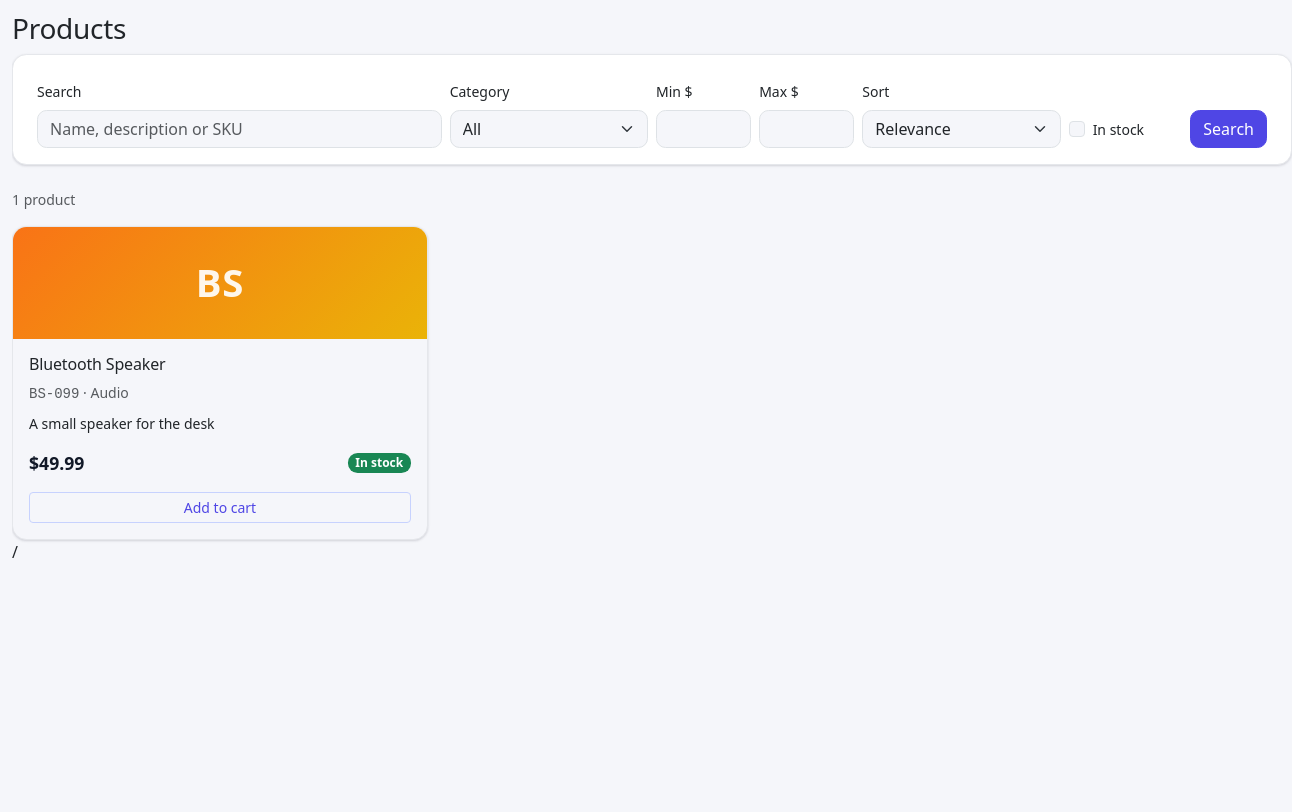
ShopPage › applies a category, a sort or the stock filter as soon as it is chosen, with the text typed so far
Step 1. Type "  speaker " into the field labelled "Search" → (239, 129), box [37,110,442,148]
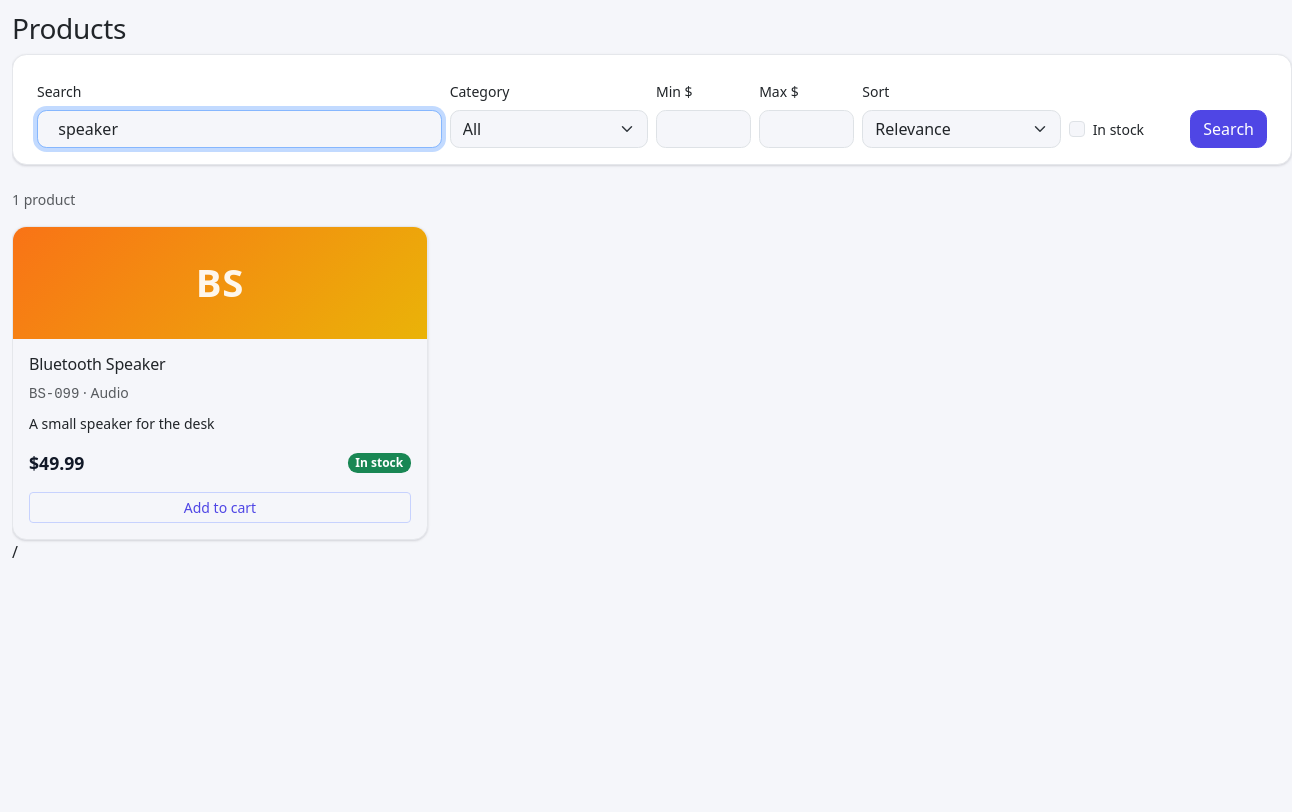
Step 2. Select "Audio" in the dropdown labelled "Category" → (549, 129), box [450,110,648,148]
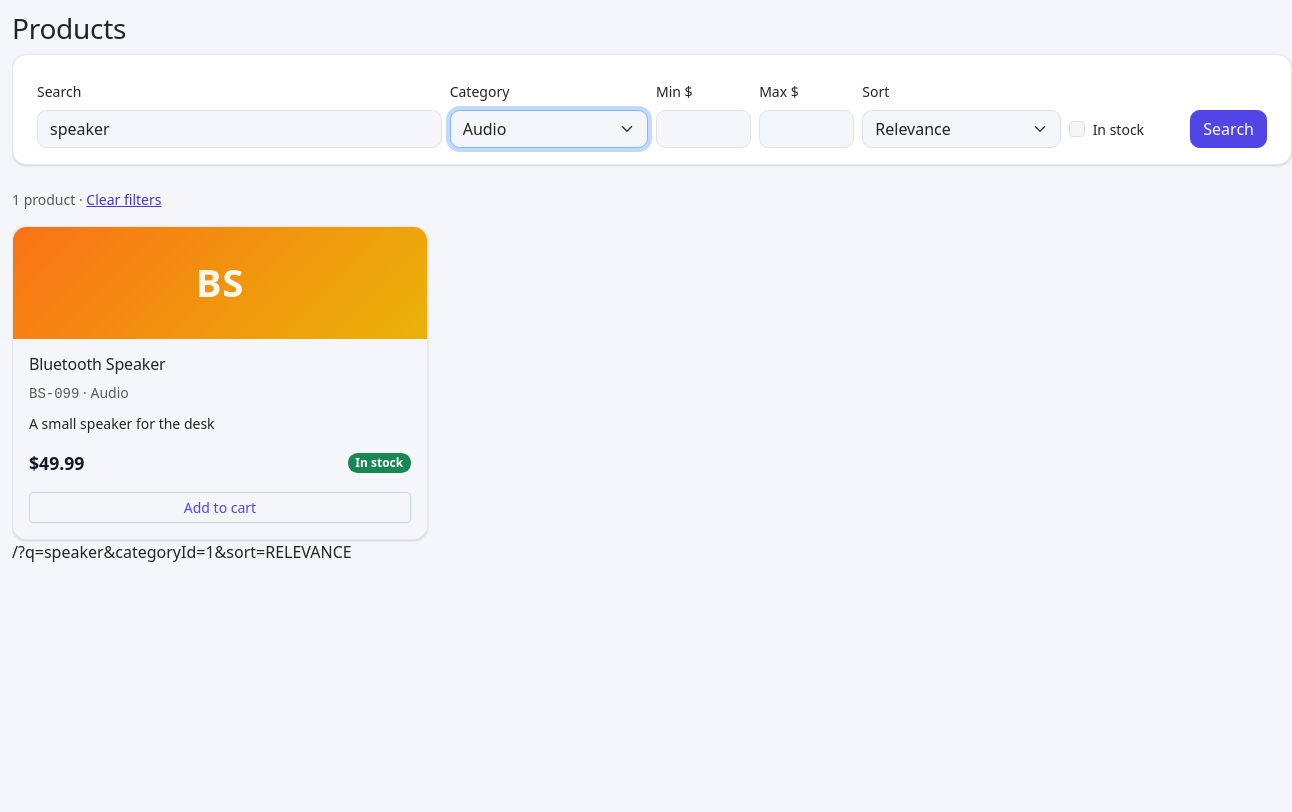
Result: the text with test id "location" reads "/?q=speaker&categoryId=1&sort=RELEVANCE" at [18,541,352,563]
Step 3. Select "Price: low to high" in the dropdown labelled "Sort" → (961, 129), box [862,110,1061,148]
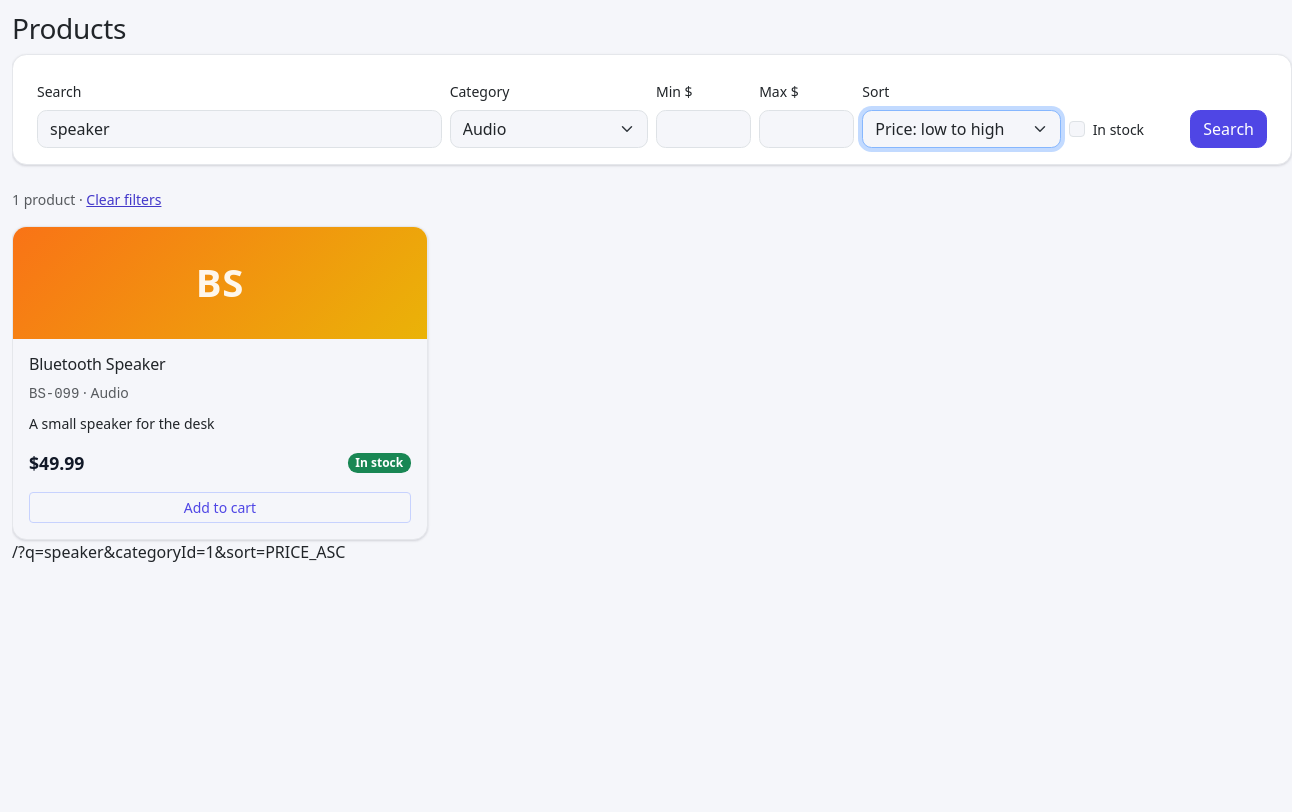
Step 4. Click the checkbox labelled "In stock" → click(1077, 129), box [1069,121,1085,137]
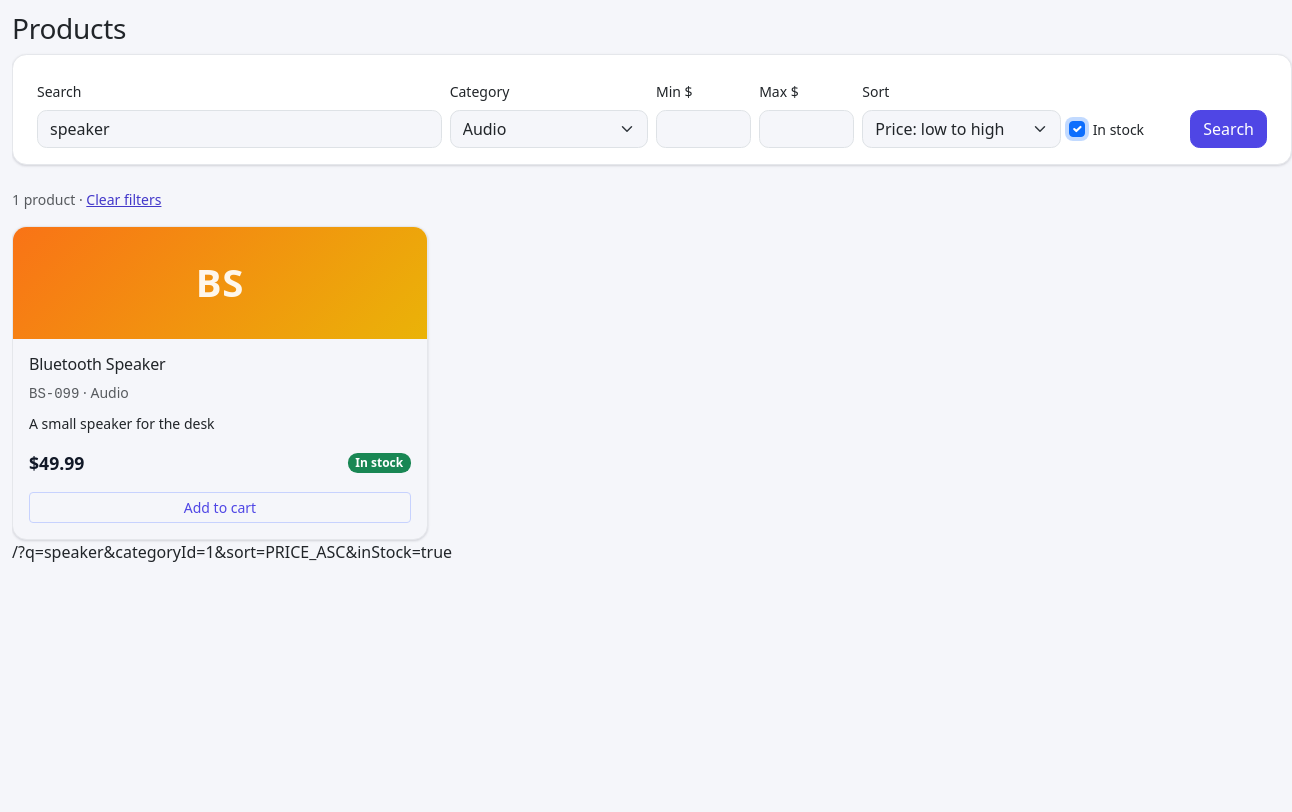
Result: the text with test id "location" reads "/?q=speaker&categoryId=1&sort=PRICE_ASC&inStock=true" at [18,541,452,563]
